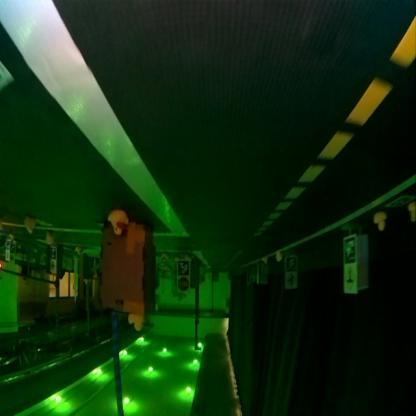Duckie: (107, 212, 126, 236), (372, 213, 386, 233), (127, 316, 143, 330), (44, 232, 52, 245), (408, 206, 414, 222), (278, 254, 282, 262), (263, 258, 267, 262)
Intersection sign: (344, 268, 354, 292), (285, 274, 295, 287)
QR code: (341, 238, 356, 260), (178, 261, 190, 273), (285, 258, 295, 272)
Stop sign: (178, 278, 188, 292)
